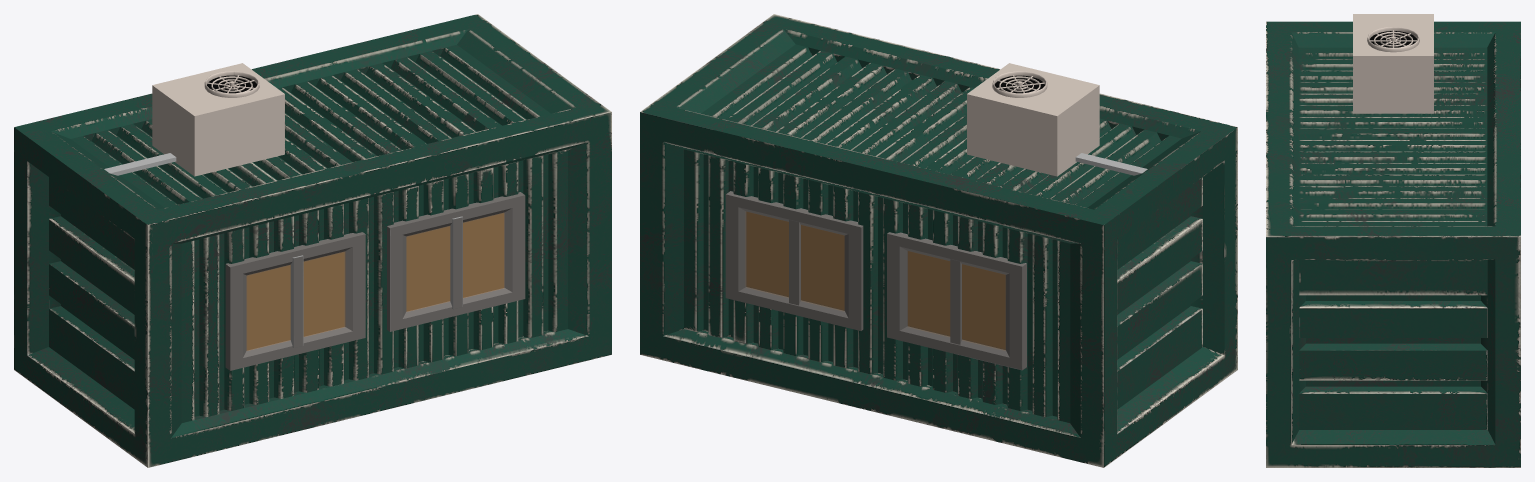
Rendered from NewContainner 1.fbx.
The picture shows the model from 3 angles, left to right: view 1: azimuth 30°, elevation 25°; view 2: azimuth 150°, elevation 25°; view 3: azimuth 270°, elevation 25°; orthographic projection. The views are drawn at different scales.
Visible parts, largest first — view 1: NewContainner; view 2: NewContainner; view 3: NewContainner.
Part boxes in pixels (x1,y1,x2,y2): NewContainner: [14, 14, 611, 467]; NewContainner: [640, 14, 1237, 467]; NewContainner: [1266, 14, 1520, 467].
Size of the model in its own units: 1.62 by 1 by 0.811.
